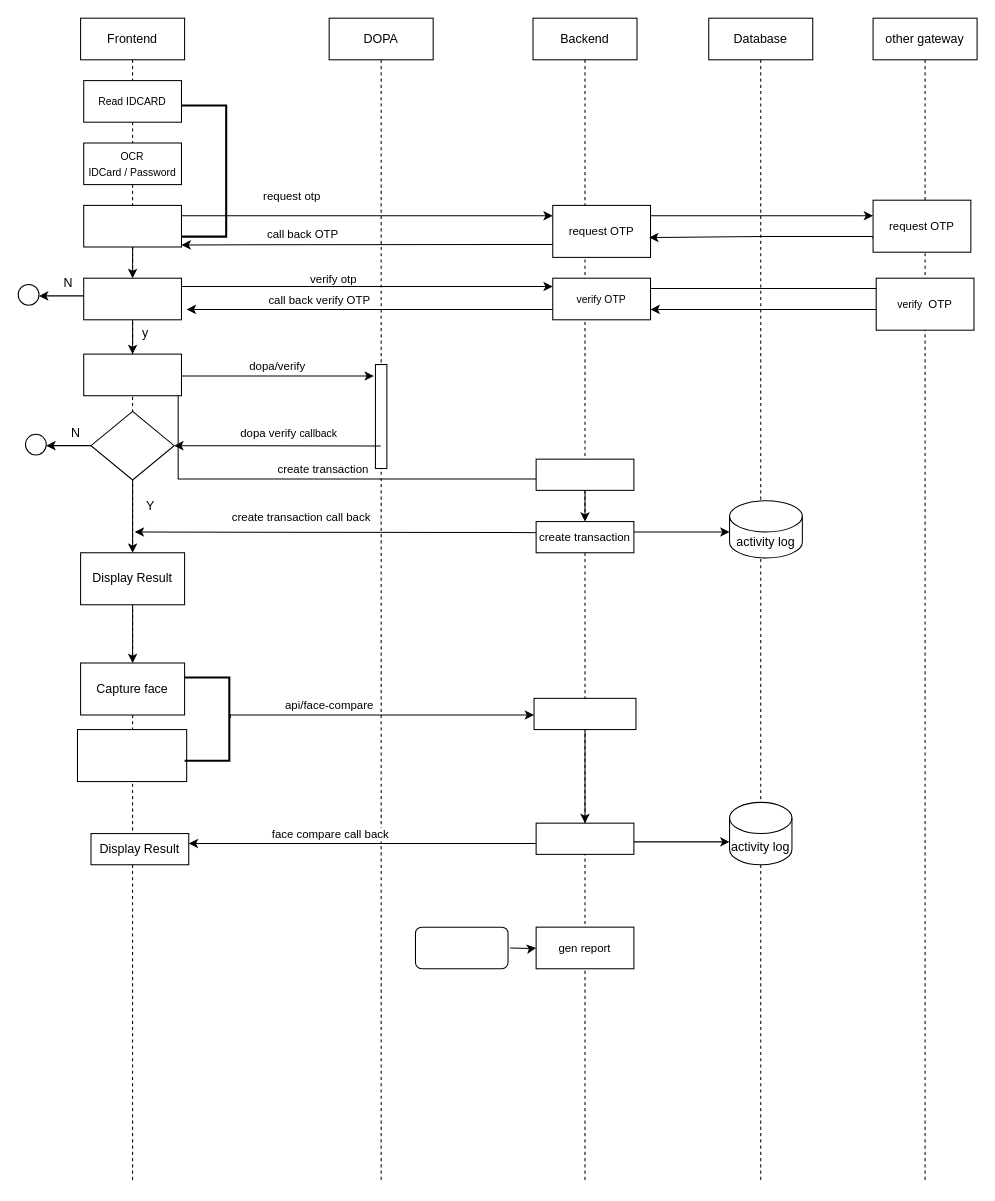
This 995x1201 diagram has some shape labels left out. Here are the shapes that lost their labels. From the top down, the centre of each, then its label:
At (x=132, y=225): "key IDCard Number / phone number".
At (x=132, y=298): "Key OTP".
At (x=132, y=374): "encrypt idcard info".
At (x=132, y=445): "valid".
At (x=584, y=474): "decrypt idcard info".
At (x=584, y=713): "face compare".
At (x=131, y=755): "face img from IDCard / Passport".
At (x=584, y=838): "save transaction".
At (x=461, y=947): "Bash End of the day".
